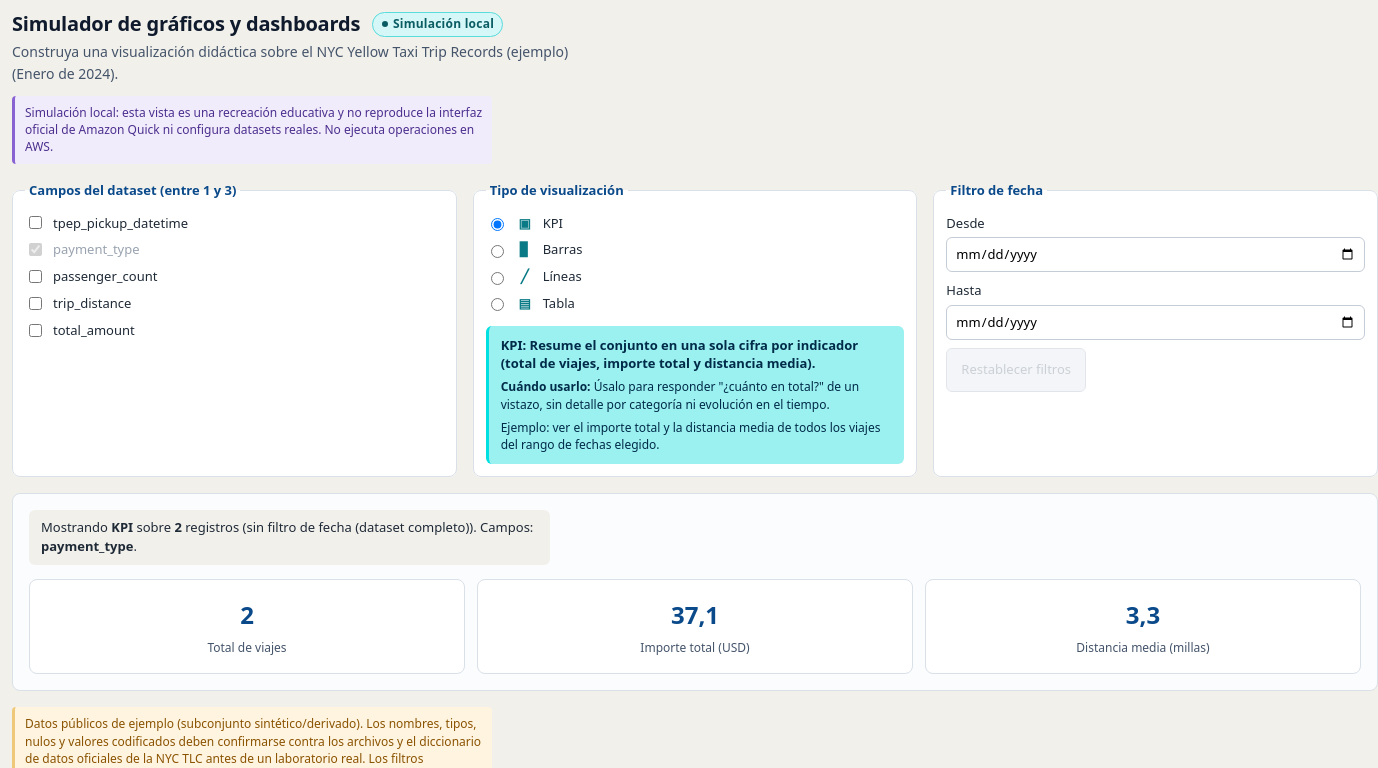
Test: SimuladorDashboards › muestra el estado vacío cuando el filtro no deja registros (R10.5)
# Aplicar un rango de fechas fuera del dataset de prueba (enero 2024).
In the date field named "filtro-desde": [1156, 255] box [946, 237, 1365, 272], type "2020-01-01"
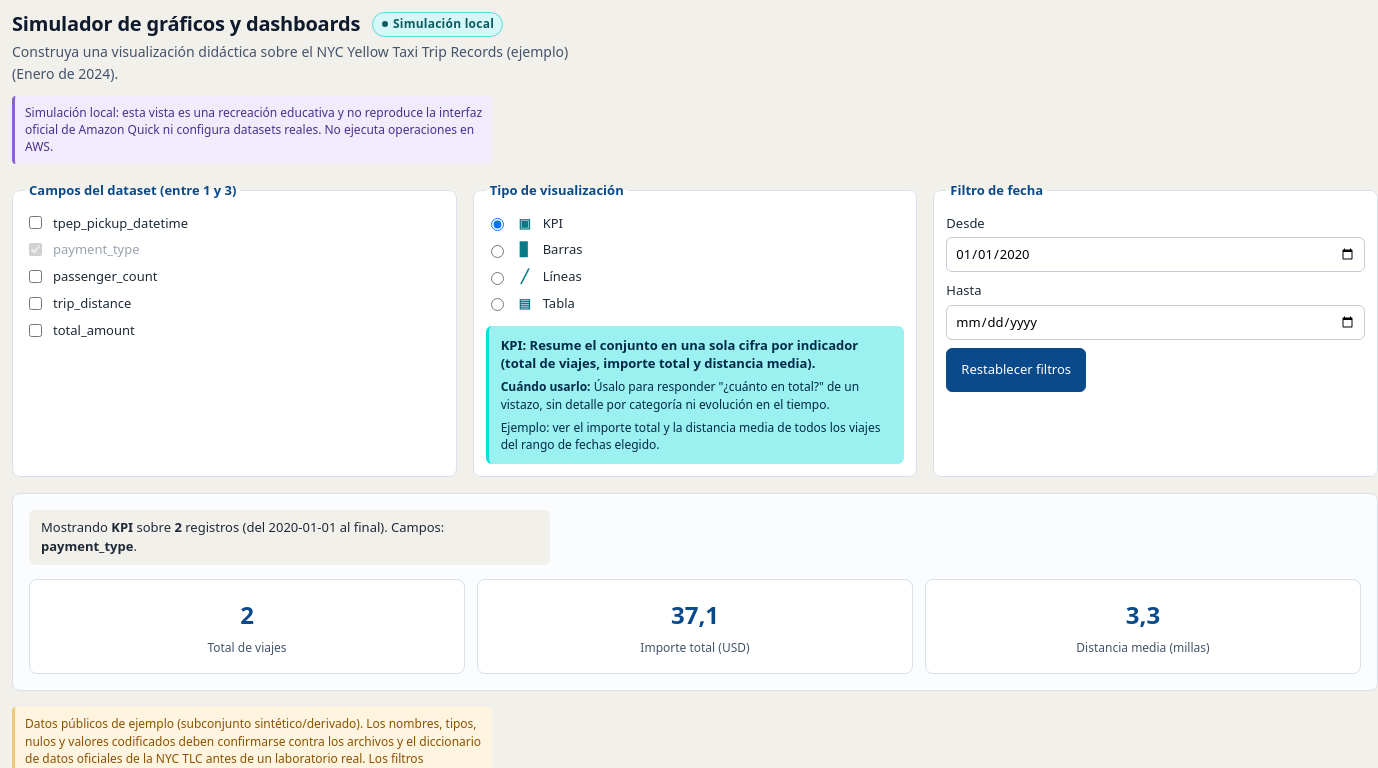
In the date field named "filtro-hasta": [1156, 322] box [946, 305, 1365, 340], type "2020-01-02"
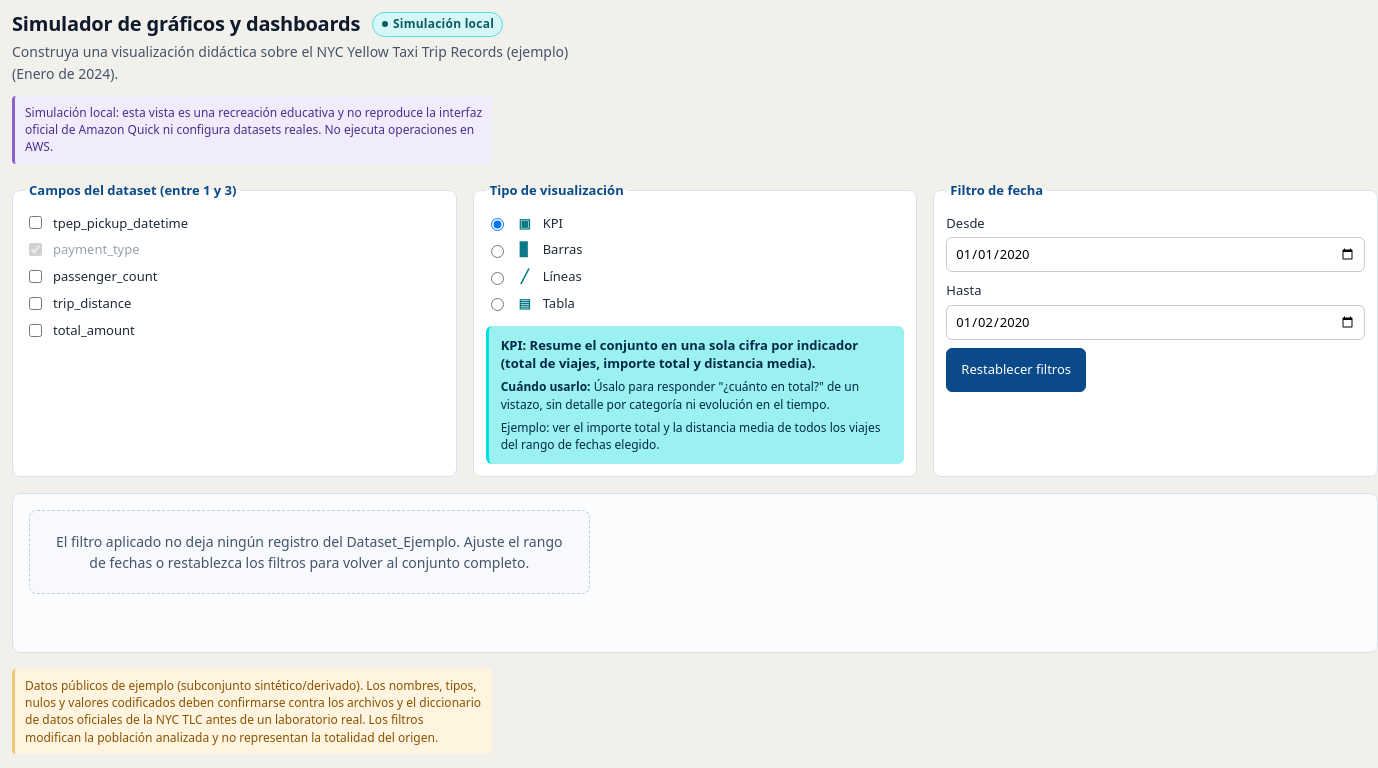
Now the message with class "simulador__vacio" shows "no deja ningún registro", box [56, 532, 562, 572]
